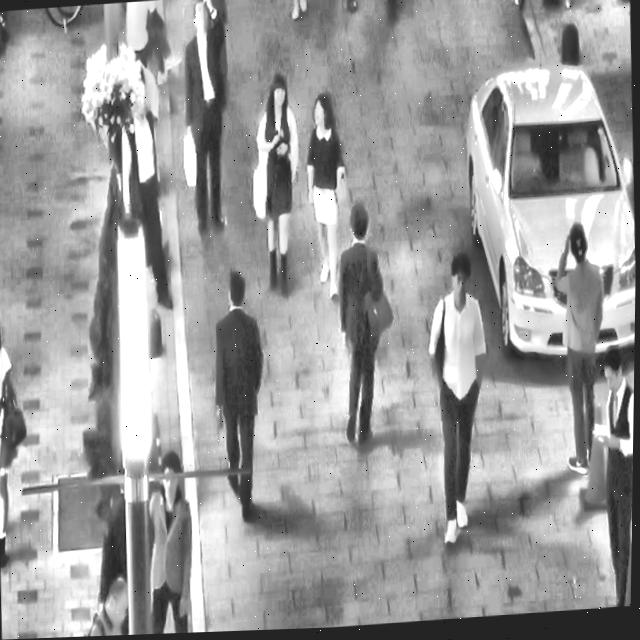light_vehicle: (454, 44, 639, 379)
